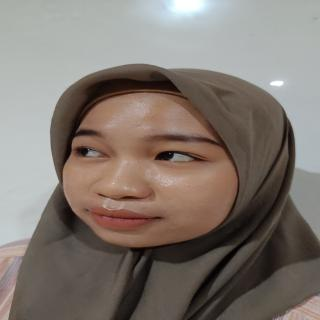Takut: (56, 81, 246, 254)
